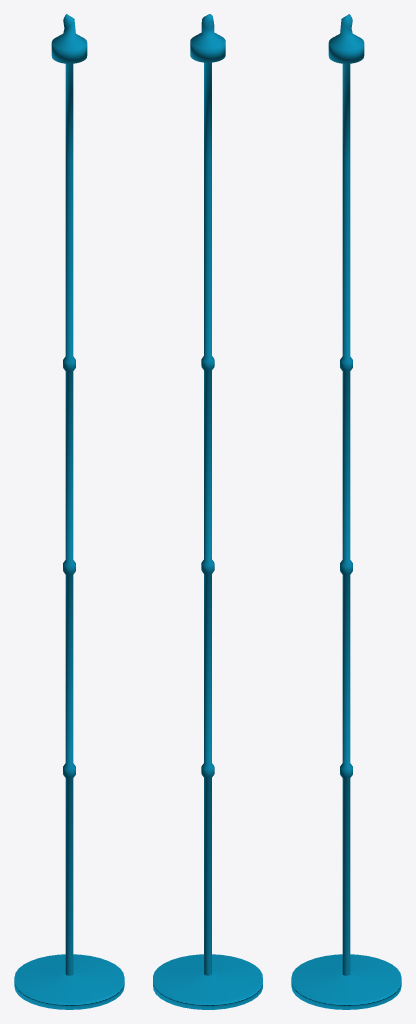
3 renders of one model, left to right at view 1: azimuth 90°, elevation 25°; view 2: azimuth 210°, elevation 25°; view 3: azimuth 270°, elevation 25°, orthographic.
Parts seen in each view (by area): view 1: Cylinder014,_colorize_.001, Cylinder015,_colorize_.001; view 2: Cylinder014,_colorize_.001, Cylinder015,_colorize_.001; view 3: Cylinder014,_colorize_.001, Cylinder015,_colorize_.001.
Part boxes in pixels (x1,y1,x2,y2): Cylinder014,_colorize_.001: (51, 14, 87, 975); Cylinder015,_colorize_.001: (14, 954, 124, 1009); Cylinder014,_colorize_.001: (190, 14, 225, 975); Cylinder015,_colorize_.001: (153, 954, 262, 1009); Cylinder014,_colorize_.001: (328, 14, 364, 975); Cylinder015,_colorize_.001: (291, 954, 401, 1009).
Size of the model in its own units: 0.2972 by 2.9 by 0.2972.
